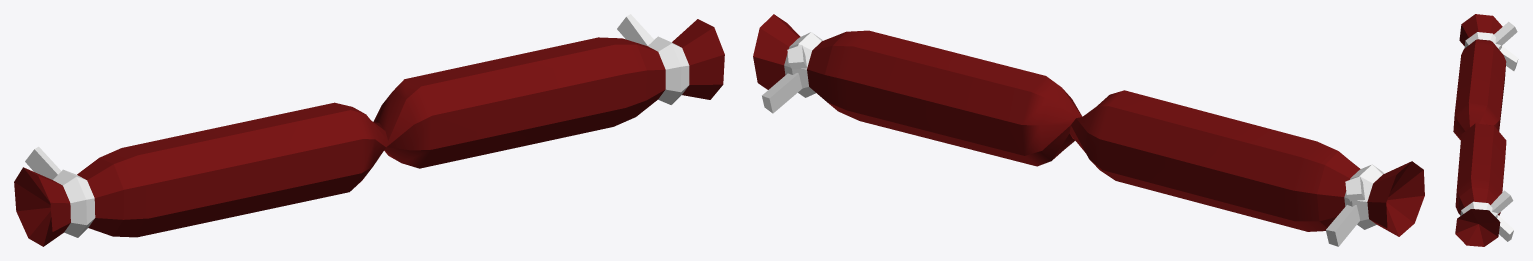
File: PT_Sausage_03.fbx
3 views of the same model, side by side, from view 1: azimuth 30°, elevation 25°; view 2: azimuth 150°, elevation 25°; view 3: azimuth 270°, elevation 25° (orthographic). The views are drawn at different scales.
Visible parts, largest first — view 1: PT_Sausage_03; view 2: PT_Sausage_03; view 3: PT_Sausage_03.
Part boxes in pixels (box(x1,y1,x2,y2)): PT_Sausage_03: box(14, 14, 724, 246); PT_Sausage_03: box(753, 14, 1424, 246); PT_Sausage_03: box(1453, 14, 1518, 246).
Bounding box in the file's own units: 45.97 × 5.86 × 6.75.
Materials: 1 (1 with a texture image).
